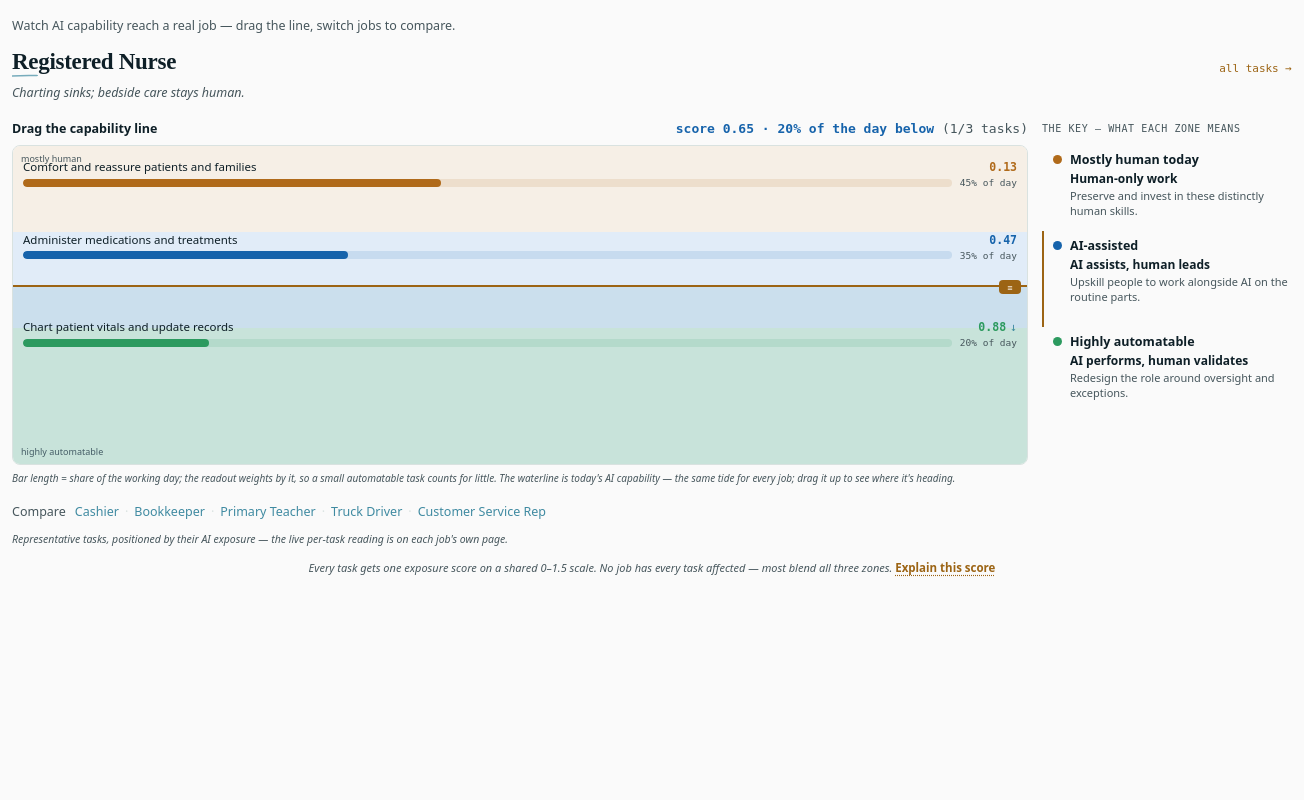
Test: ZoneExplorer (plain mode — the default) › switches focus when a role is picked from the browse rail
This screenshot has width=1304, height=800.
Click the button "Cashier" at (97, 512), box [72,501,122,522]
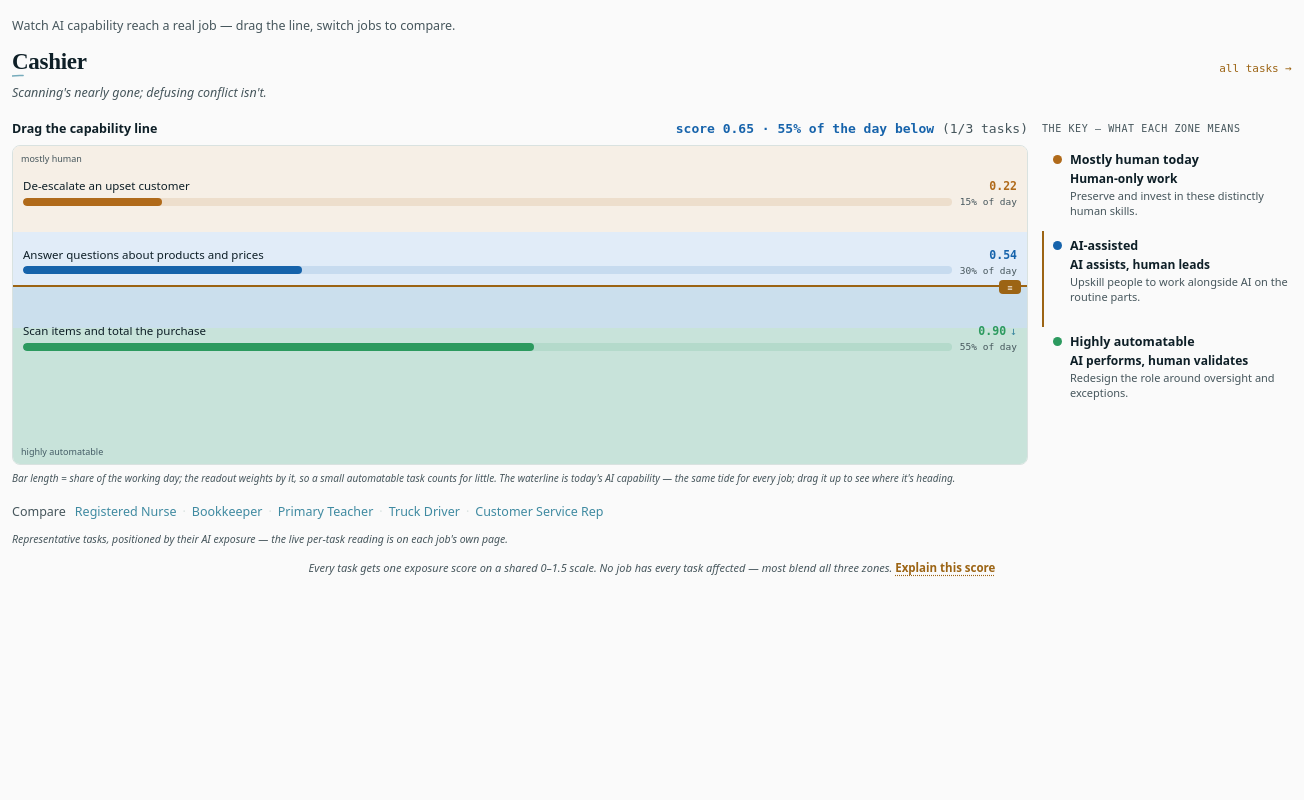
Now the text "Scan items and total the purchase" is shown, box [23,323,206,338]
Now the text "Chart patient vitals" is gone
